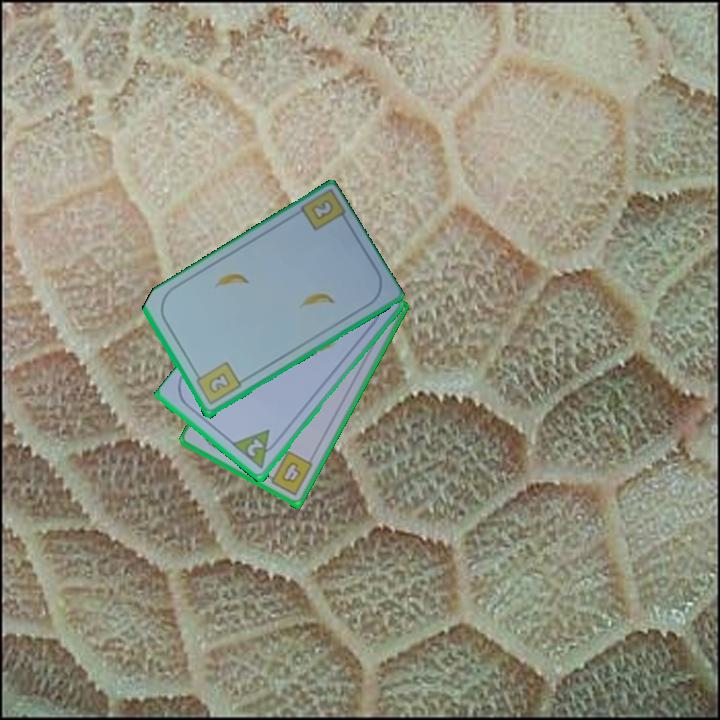2b: (191, 359, 244, 408), (308, 196, 336, 223)
2p: (243, 435, 266, 460)
4b: (262, 448, 315, 499)
